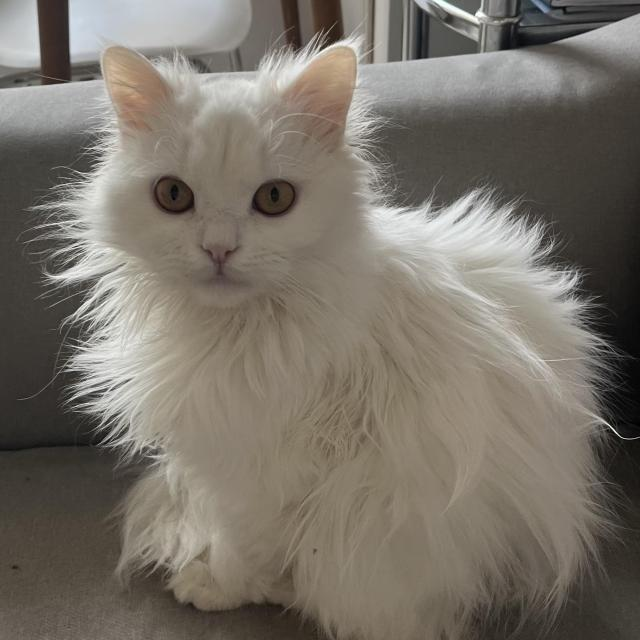persian_cat: (61, 29, 380, 336)
